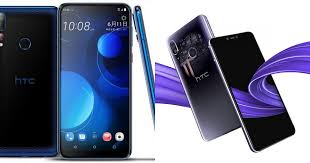htc: (1, 4, 57, 158)
